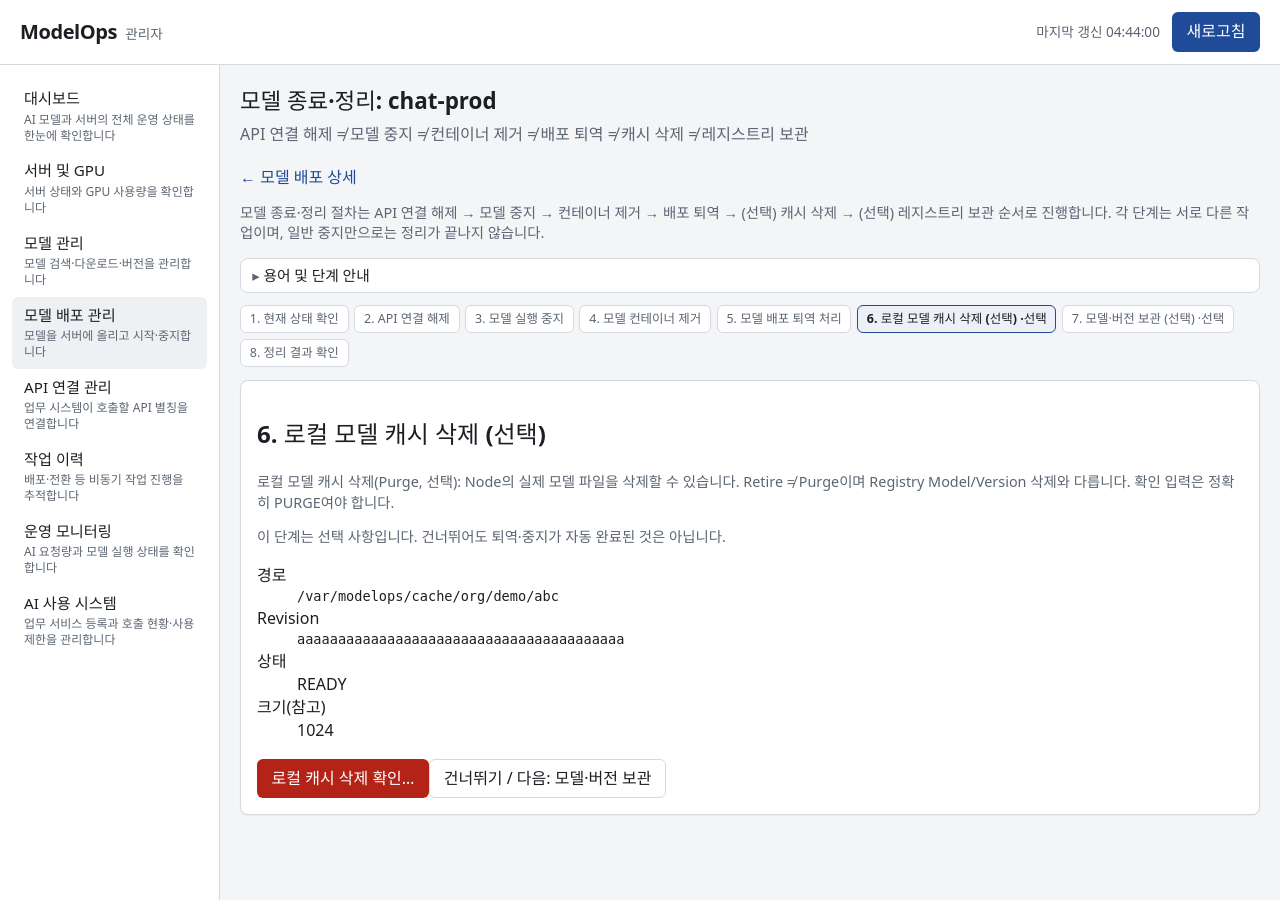
Test: DecommissionWizardPage › allows skipping purge and shows partial done summary
Click the button "건너뛰기 / 다음: 모델·버전 보관" at (548, 778), box x1=429 y1=758 x2=666 y2=798
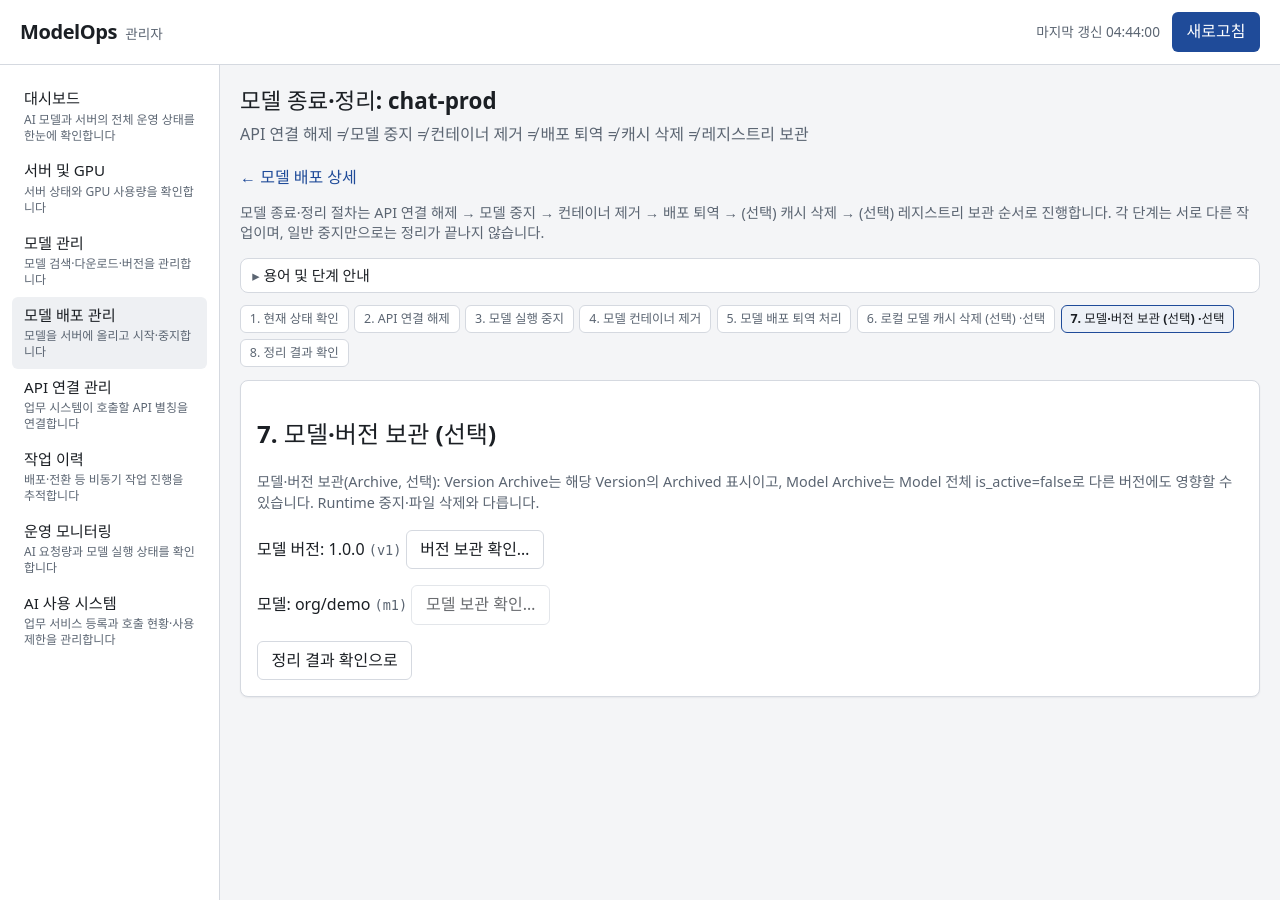
Result: the heading "7. 모델·버전 보관 (선택)" is shown at x1=257 y1=417 x2=496 y2=450
Click the button "정리 결과 확인으로" at (335, 660), box x1=257 y1=641 x2=412 y2=680
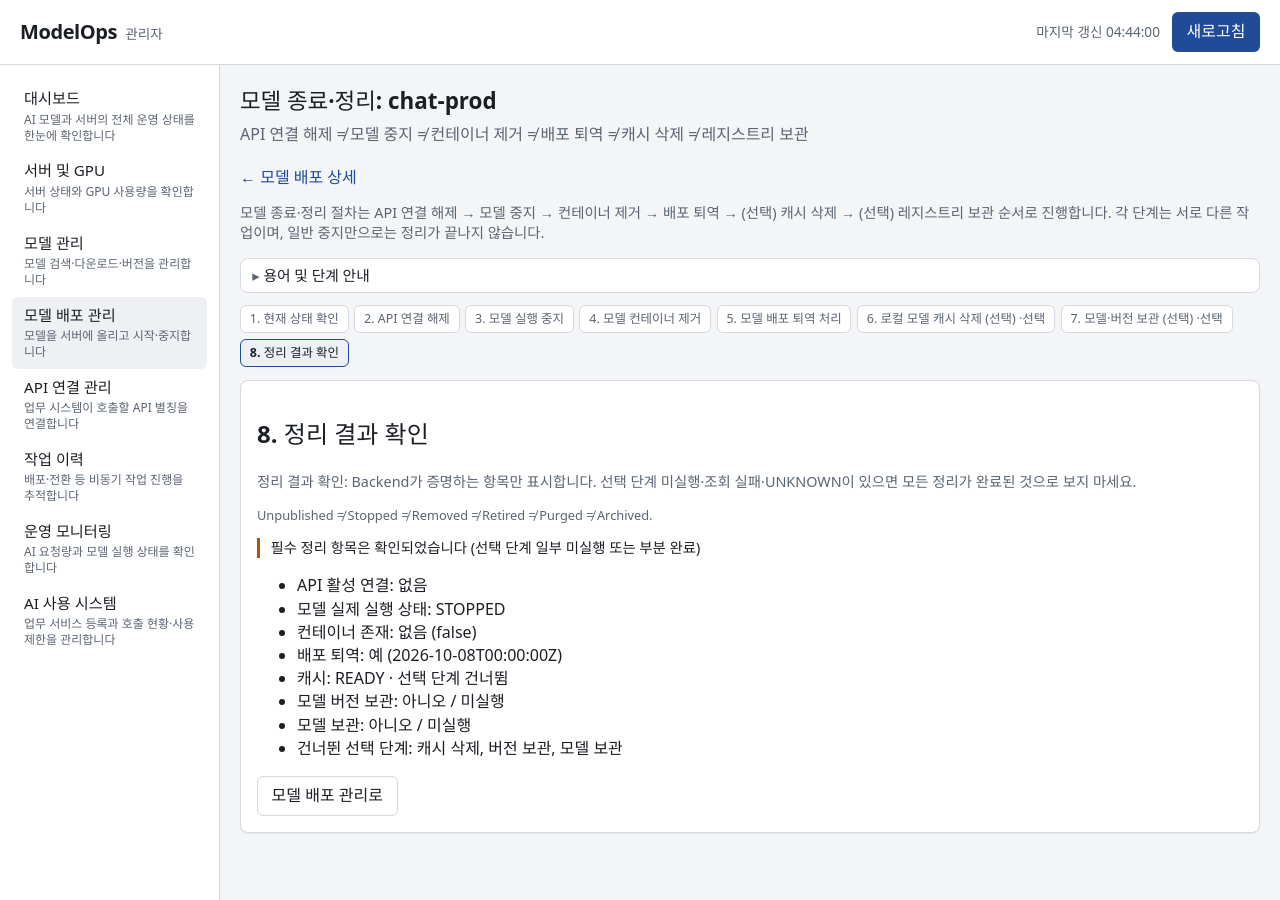
Result: the heading "8. 정리 결과 확인" is shown at x1=257 y1=417 x2=429 y2=450
Result: the list item "캐시: READY · 선택 단계 건너뜀" is shown at x1=297 y1=667 x2=508 y2=689
Result: the text "필수 정리 항목은 확인되었습니다 (선택 단계 일부 미실행 또는 부분 완료)" is shown at x1=257 y1=538 x2=1243 y2=558
